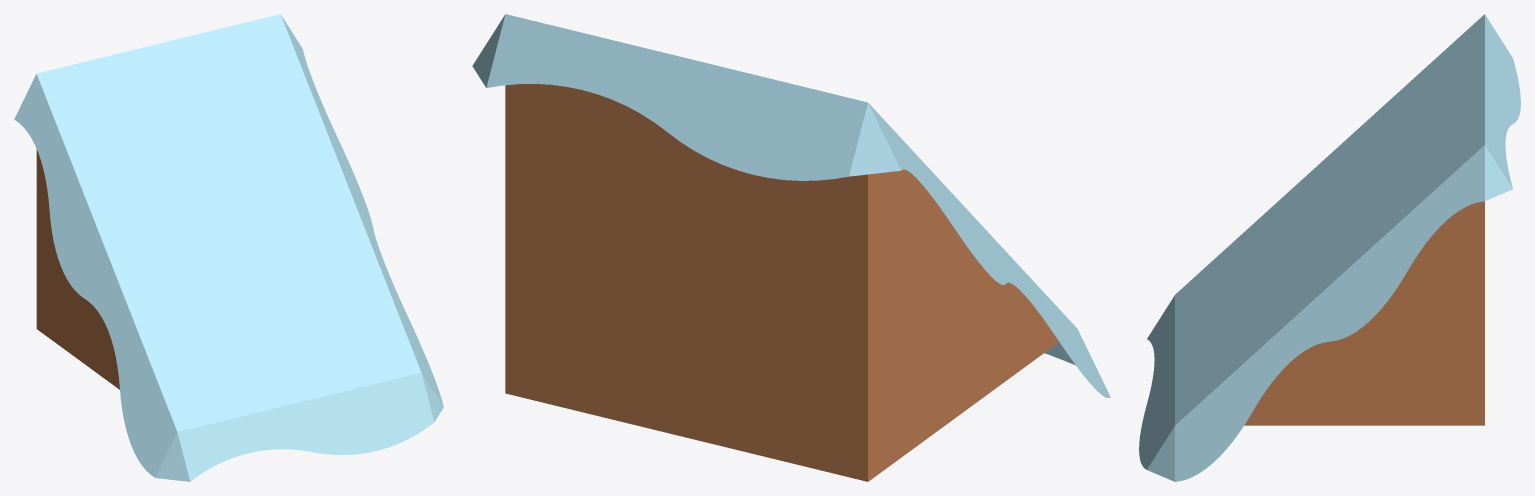
File: blockSnowSlope.obj
3 renders of one model, left to right at view 1: azimuth 30°, elevation 25°; view 2: azimuth 150°, elevation 25°; view 3: azimuth 270°, elevation 25°, orthographic. The views are drawn at different scales.
Parts seen in each view (by area): view 1: blockSnowSlope; view 2: blockSnowSlope; view 3: blockSnowSlope.
Part boxes in pixels (box(x1,y1,x2,y2)): blockSnowSlope: box(14, 14, 443, 481); blockSnowSlope: box(472, 14, 1110, 481); blockSnowSlope: box(1139, 14, 1520, 481).
Size of the model in its own units: 1.23 by 1.2 by 1.23.
